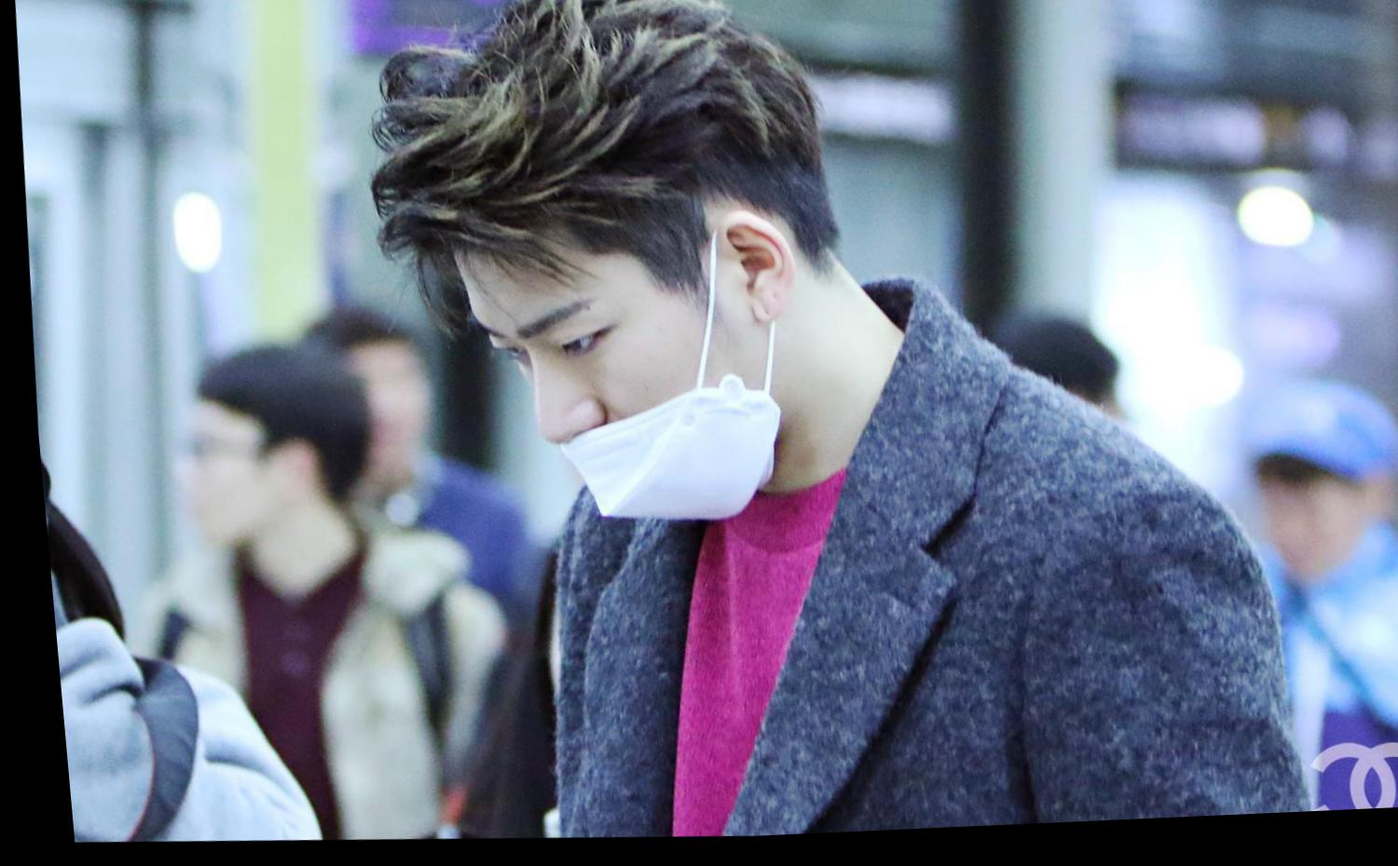NONE: (156, 409, 289, 547)
WRONG: (467, 209, 803, 534), (1247, 473, 1398, 611)
